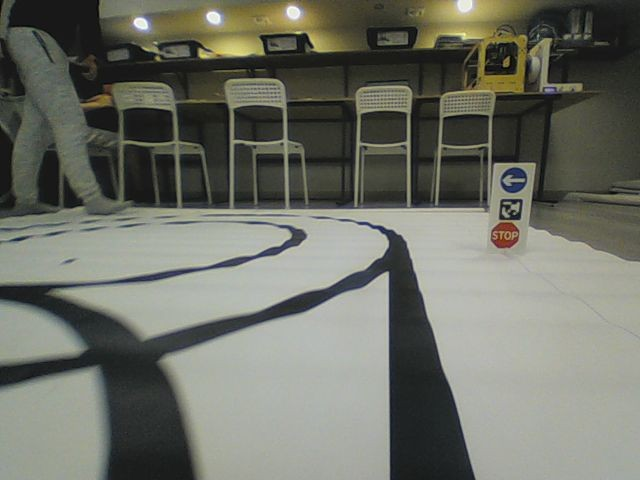Stop: (489, 220, 520, 249)
